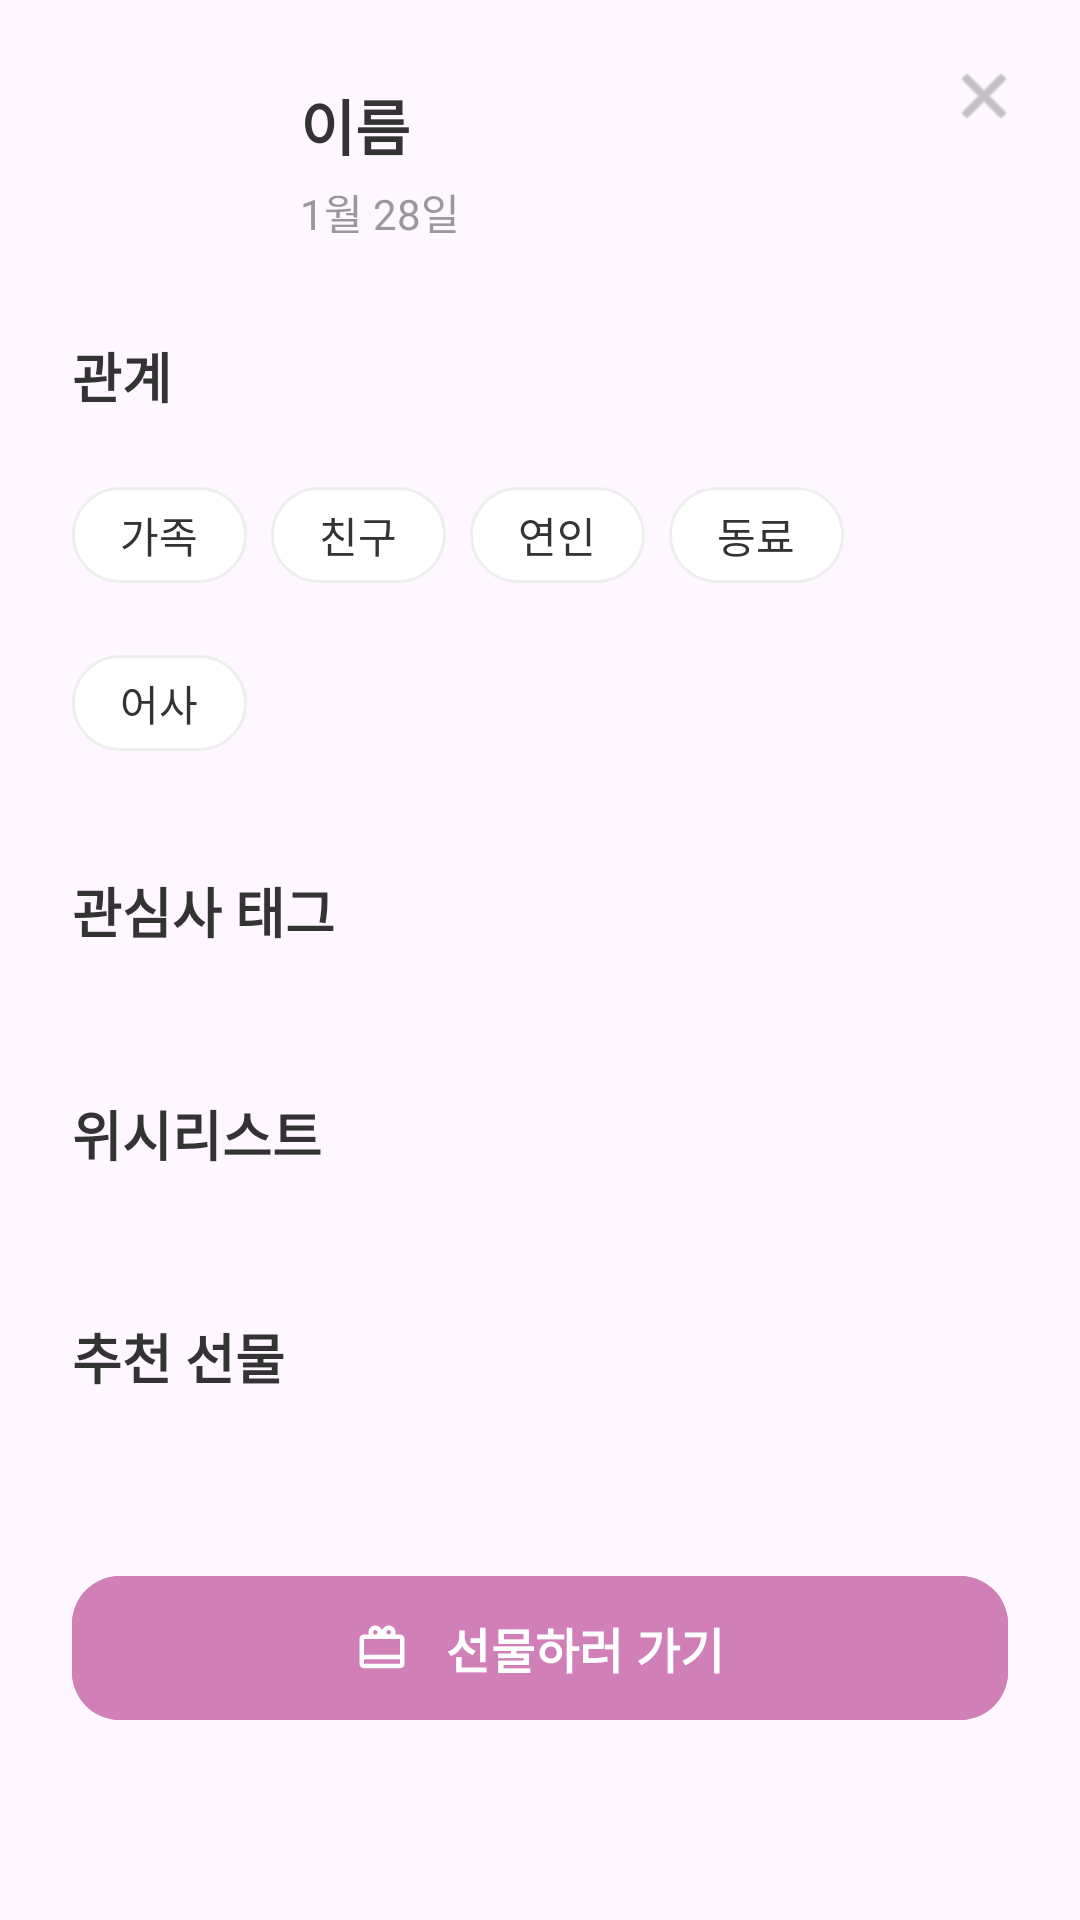

Screen size 1080x1920. Icon name, then its center in pixels as [x,y]:
close: [984,96]
